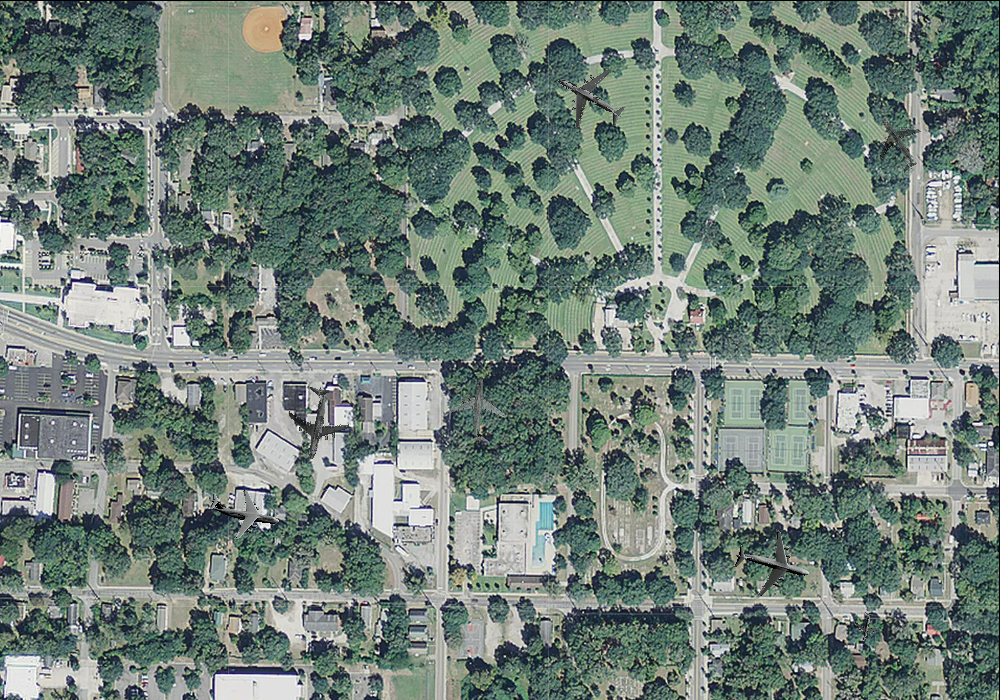plane: (541, 49, 639, 146), (726, 520, 818, 609), (274, 380, 357, 465), (857, 102, 937, 183), (203, 474, 284, 549), (445, 374, 514, 446), (850, 609, 883, 644)
